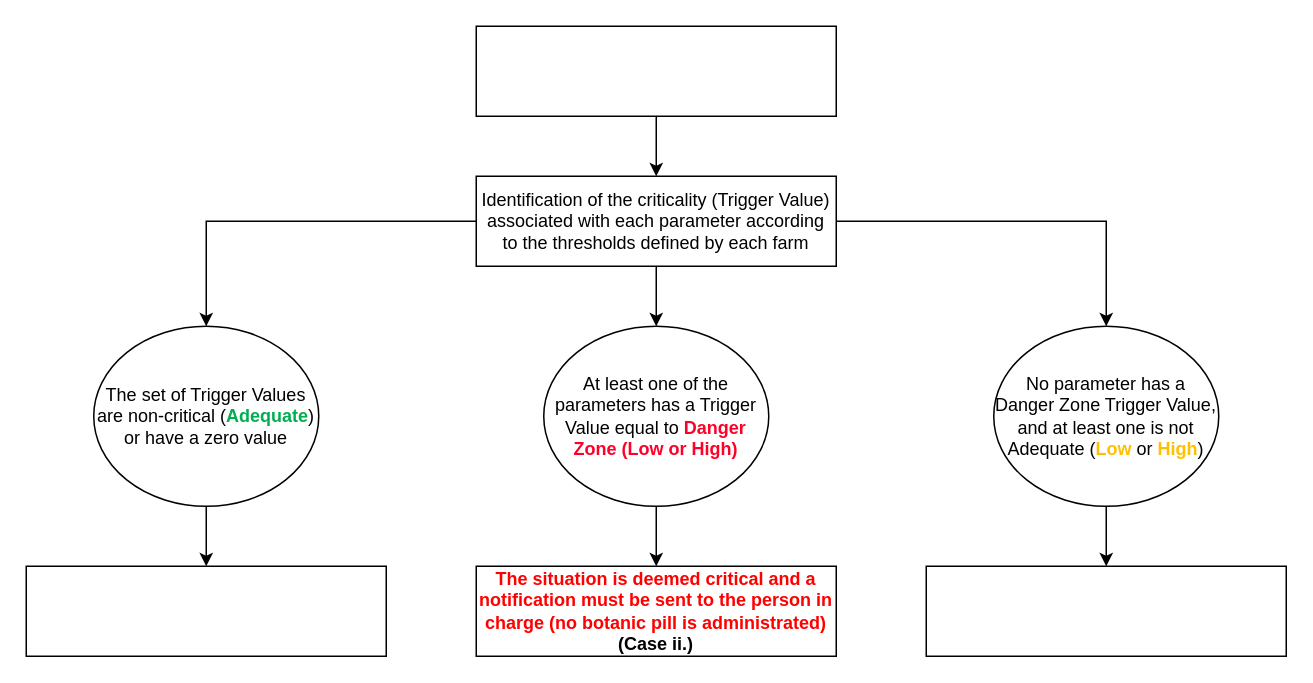
Image size: 1313x683. Some labels were removed from this diagram. Here are the shapes that lost their labels. From the top down, the centre of each, then its label:
point (655, 70): For a milk sample (farm ID + values of the various parameters measured)
point (205, 610): No action is taken, the Target Value is set to "No Treatment" (Case i.)
point (1105, 610): Then the botanic pill recommendation algorithm is triggered (Case iii.)
